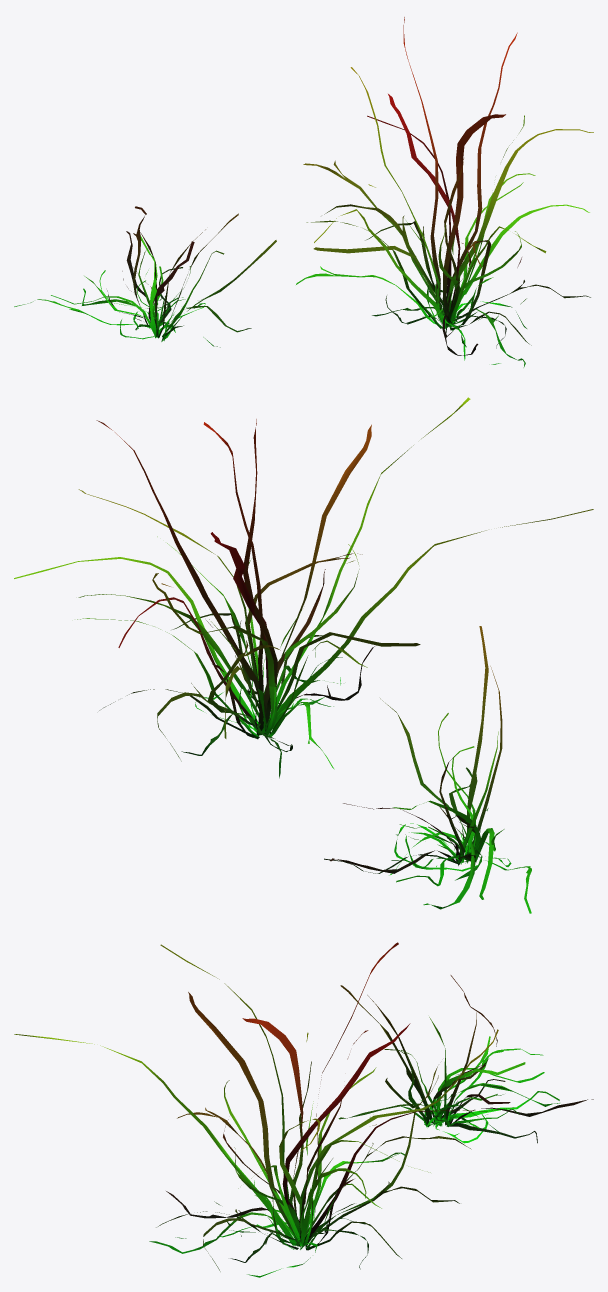
Rendered from SM_OW_GrassTuft_b_LOD0.fbx.
The picture shows the model from 3 angles, top to bottom: view 1: azimuth 30°, elevation 25°; view 2: azimuth 150°, elevation 25°; view 3: azimuth 270°, elevation 25°; orthographic projection. The views are drawn at different scales.
Visible parts, largest first — view 1: SM_OW_GrassTuft_b_LOD0; view 2: SM_OW_GrassTuft_b_LOD0; view 3: SM_OW_GrassTuft_b_LOD0.
Part boxes in pixels (<box>): SM_OW_GrassTuft_b_LOD0: <box>14,17,593,367</box>; SM_OW_GrassTuft_b_LOD0: <box>14,397,593,913</box>; SM_OW_GrassTuft_b_LOD0: <box>14,942,593,1277</box>.
Size of the model in its own units: 0.459 by 0.2659 by 0.4485.
